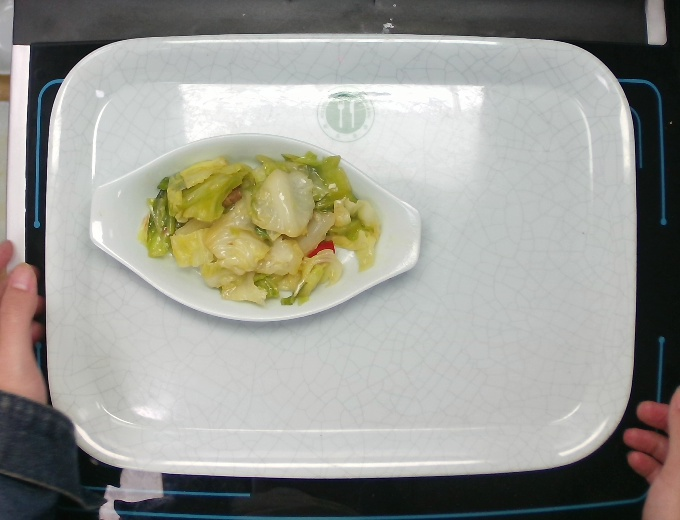JYsf-Yu_Pan: (79, 129, 427, 337)
